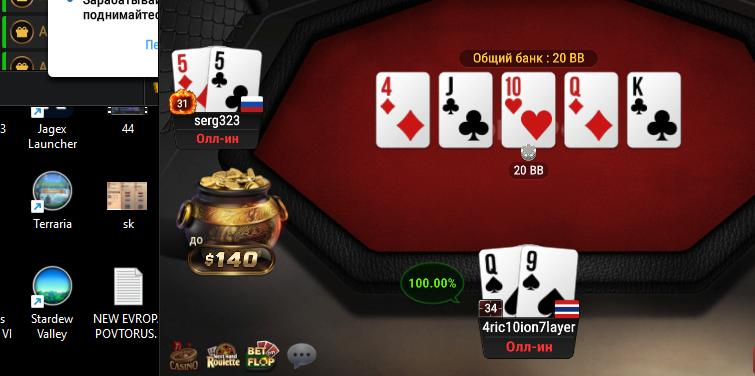10h: (502, 72, 555, 149)
4d: (376, 72, 430, 147), (377, 73, 429, 147)
5c: (209, 47, 261, 114)
5d: (171, 48, 209, 111)
9s: (519, 244, 579, 318)
Jc: (439, 73, 492, 148)
Kc: (627, 73, 681, 147)
Qd: (564, 73, 618, 147)
Qs: (477, 247, 520, 317)
